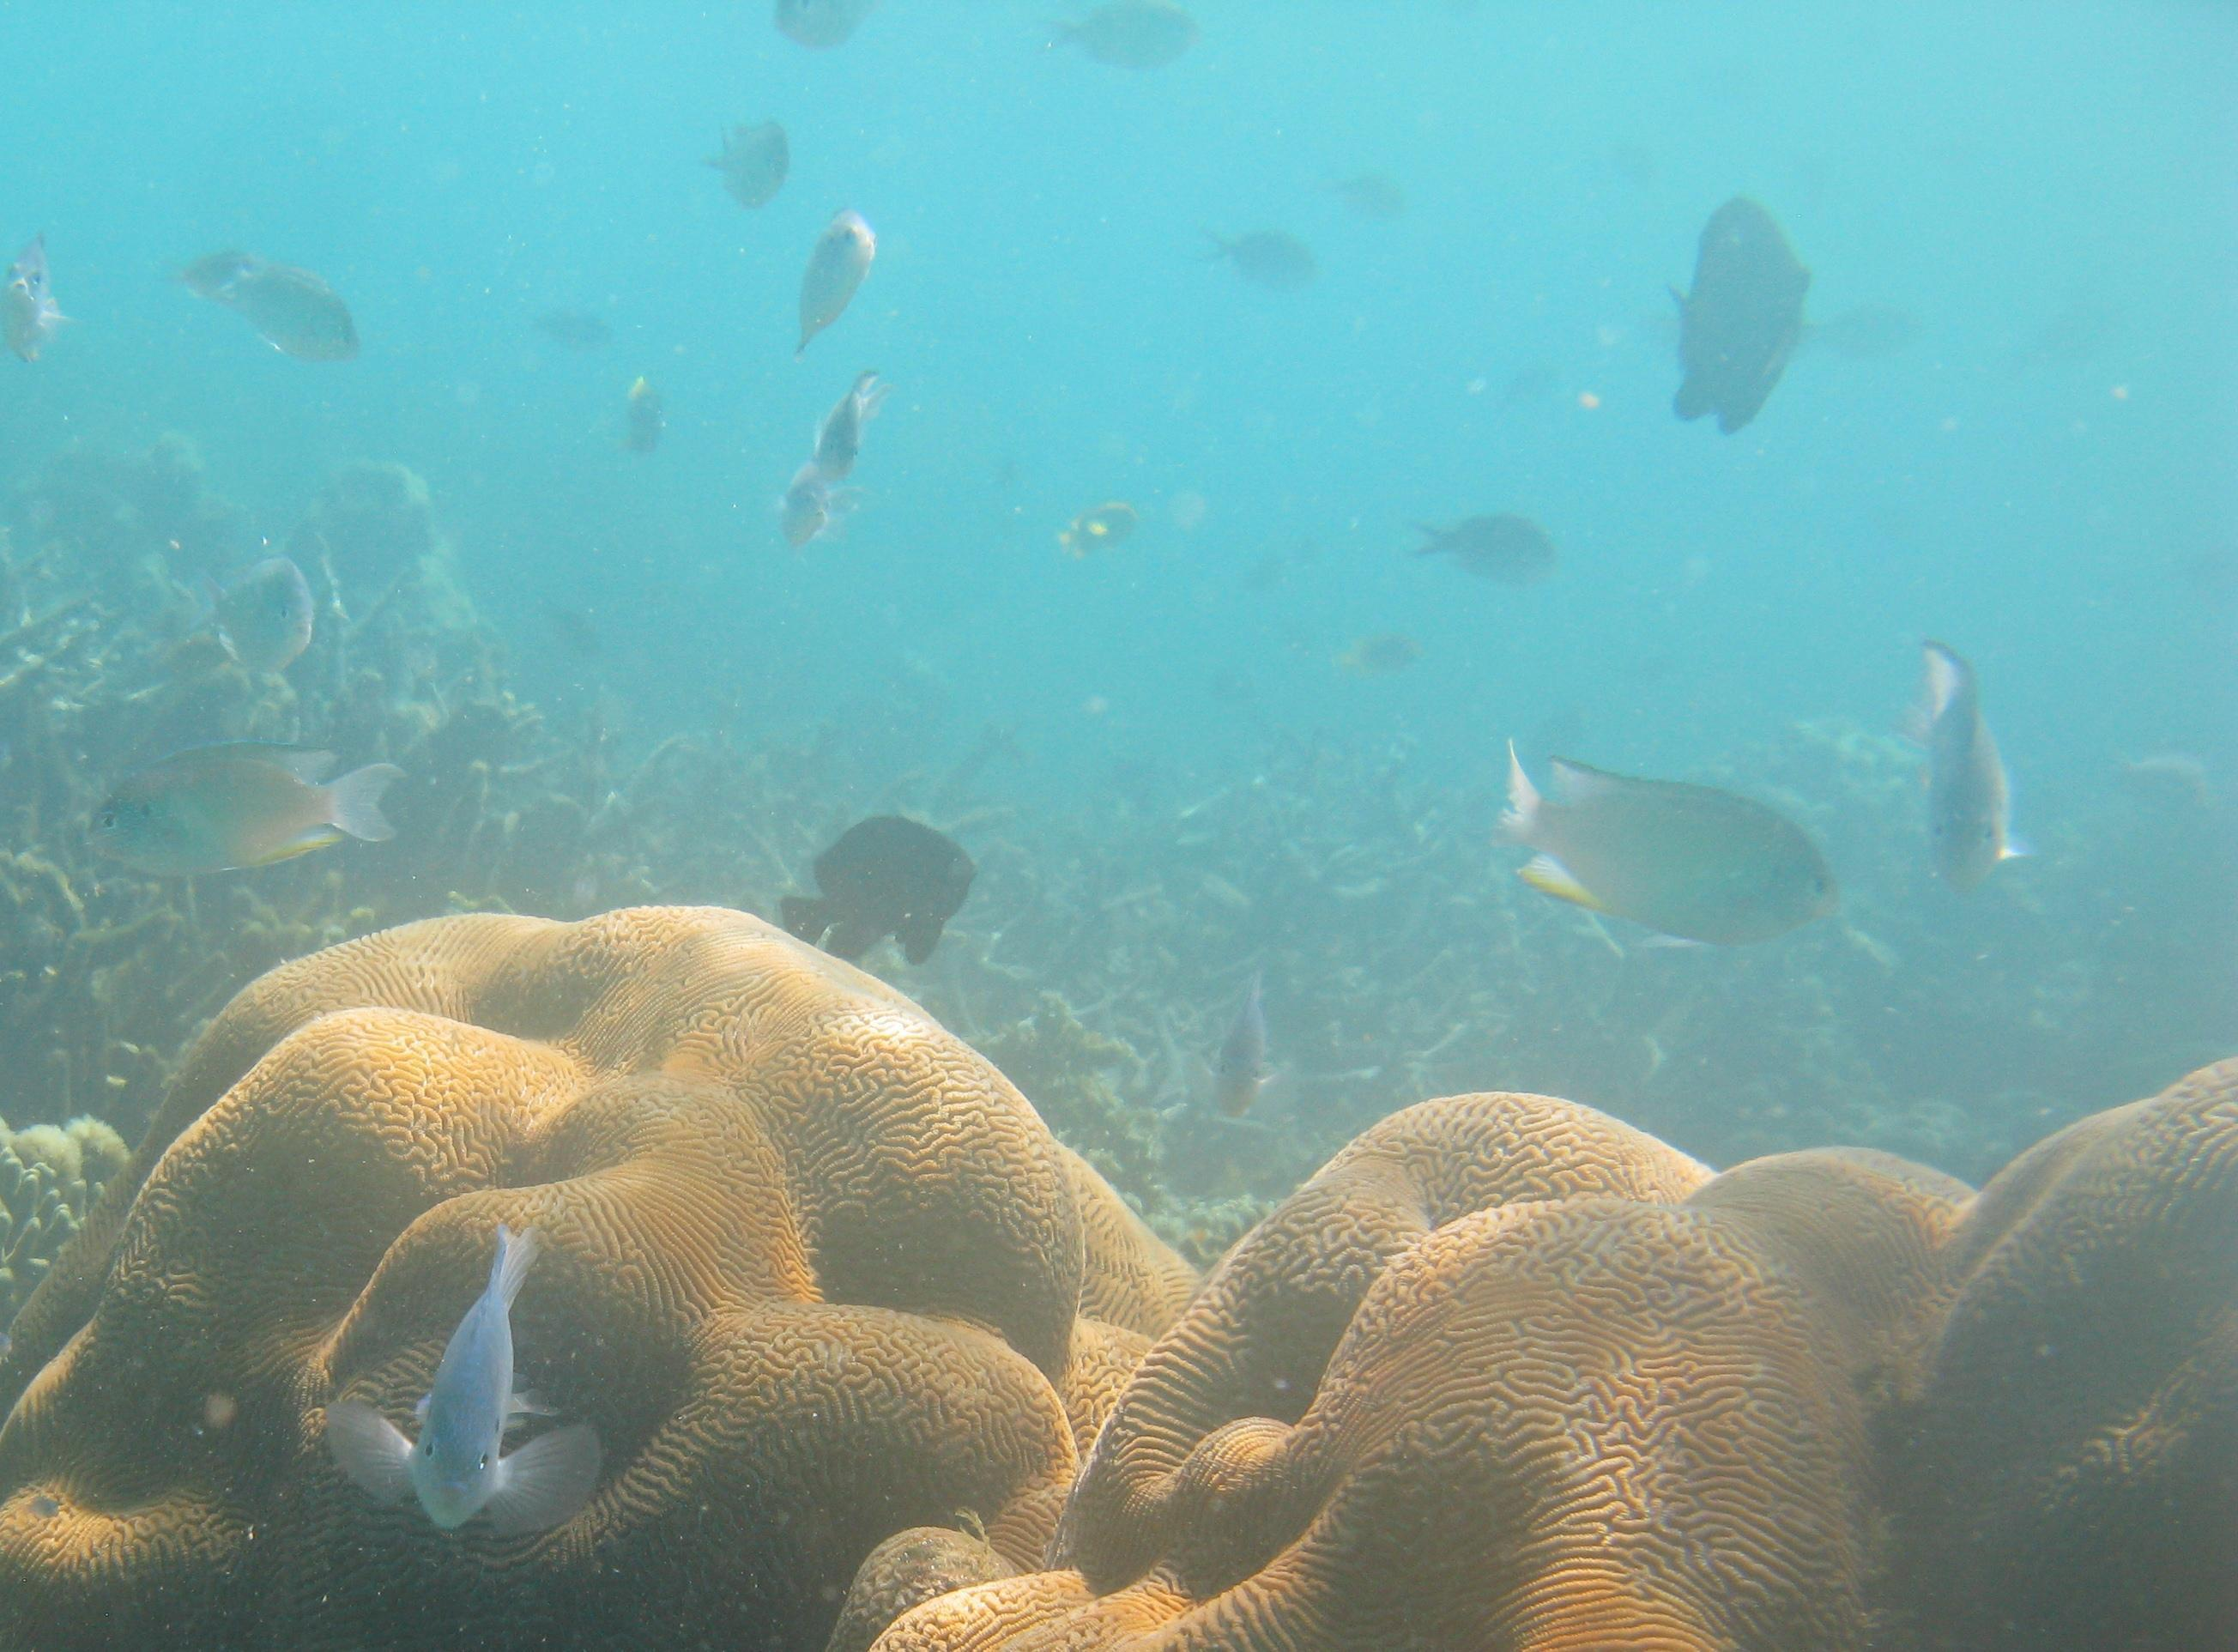Pomacentrus pavo: (315, 1226, 627, 1562)
